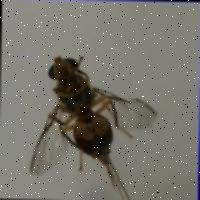Oriental-fruit-fly: (22, 43, 158, 188)
